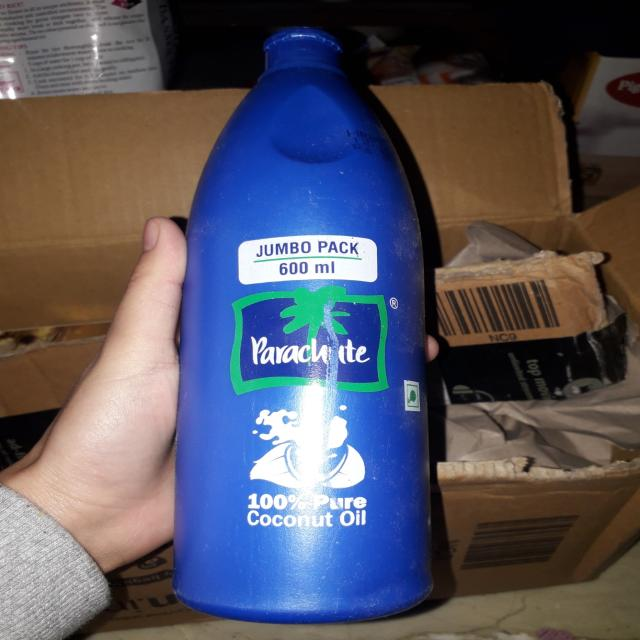parachute_oil: (177, 16, 426, 621)
